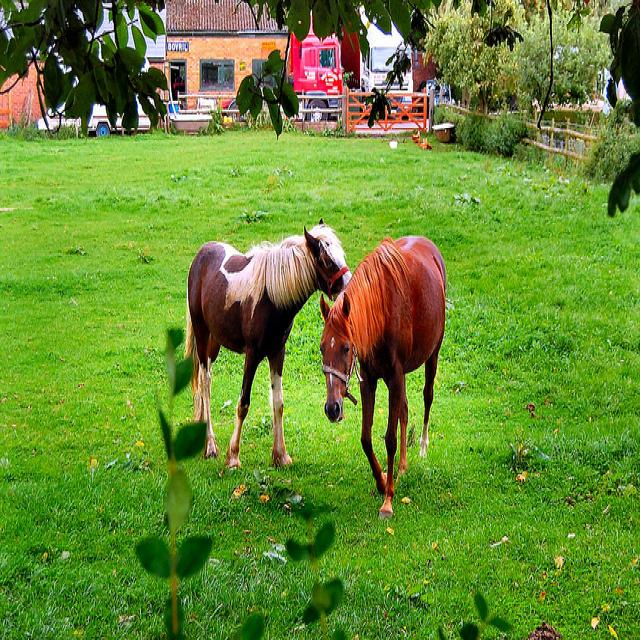Vehicle: (292, 9, 344, 110)
